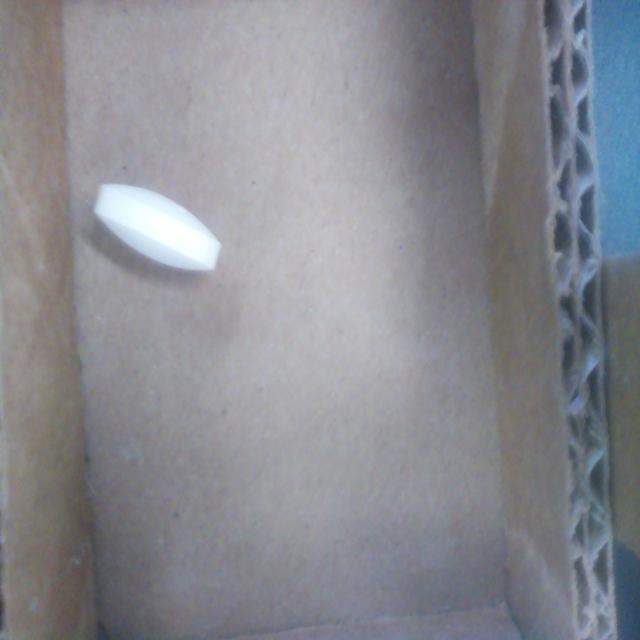pill: (94, 184, 221, 271)
